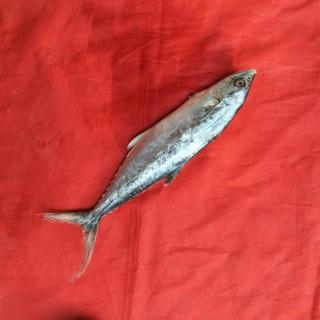Ikan: (36, 49, 273, 287)
